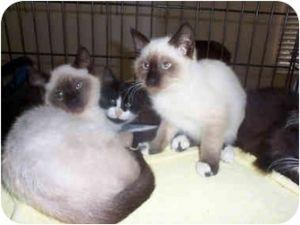siamese: (122, 19, 210, 108)
